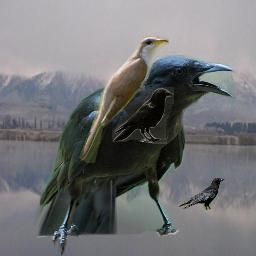Crow: (33, 55, 235, 256), (112, 87, 174, 144), (179, 178, 225, 210)
Cuckoo: (78, 36, 169, 163)
